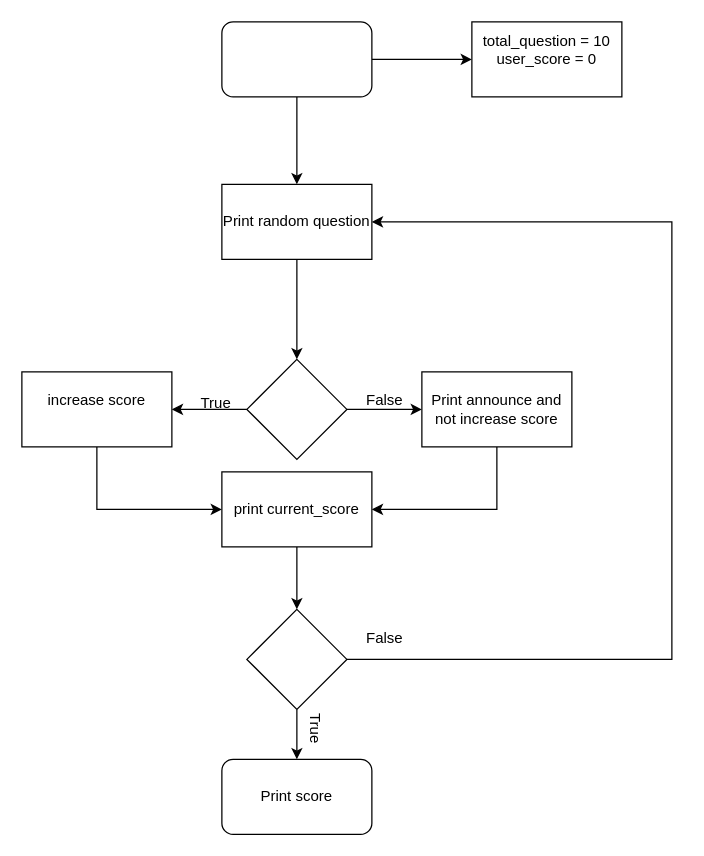
Some shapes in this 704 by 856 pixel diagram are drawn without their labels. Each missing label, with the box of its shape:
ask True or False: (246, 358, 347, 459)
Asked total == 10?: (246, 608, 347, 709)
Start: (221, 21, 372, 97)
